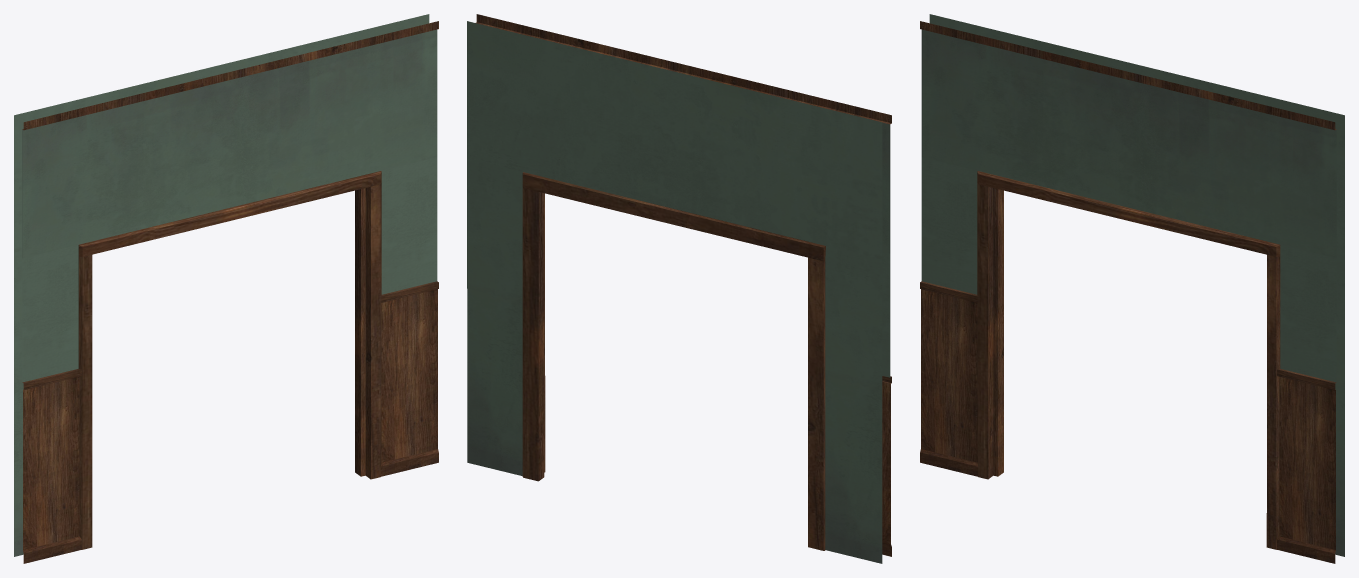
The model's file is MT_RecDouDooW.fbx.
3 views of the same model, side by side, from view 1: azimuth 30°, elevation 25°; view 2: azimuth 150°, elevation 25°; view 3: azimuth 330°, elevation 25° (orthographic).
Parts seen in each view (by area): view 1: WindowWall.002; view 2: WindowWall.002; view 3: WindowWall.002.
Part boxes in pixels (x1=…): WindowWall.002: x1=14, y1=14, x2=438, y2=563; WindowWall.002: x1=467, y1=14, x2=891, y2=563; WindowWall.002: x1=920, y1=14, x2=1344, y2=563.
Size of the model in its own units: 300 by 305 by 13.99.
Materials: 1 (1 with a texture image).
